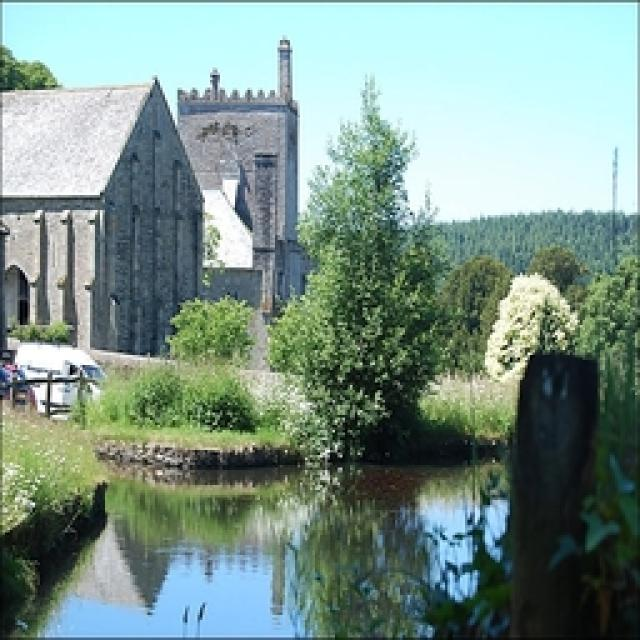Abbey: (1, 44, 307, 382)
